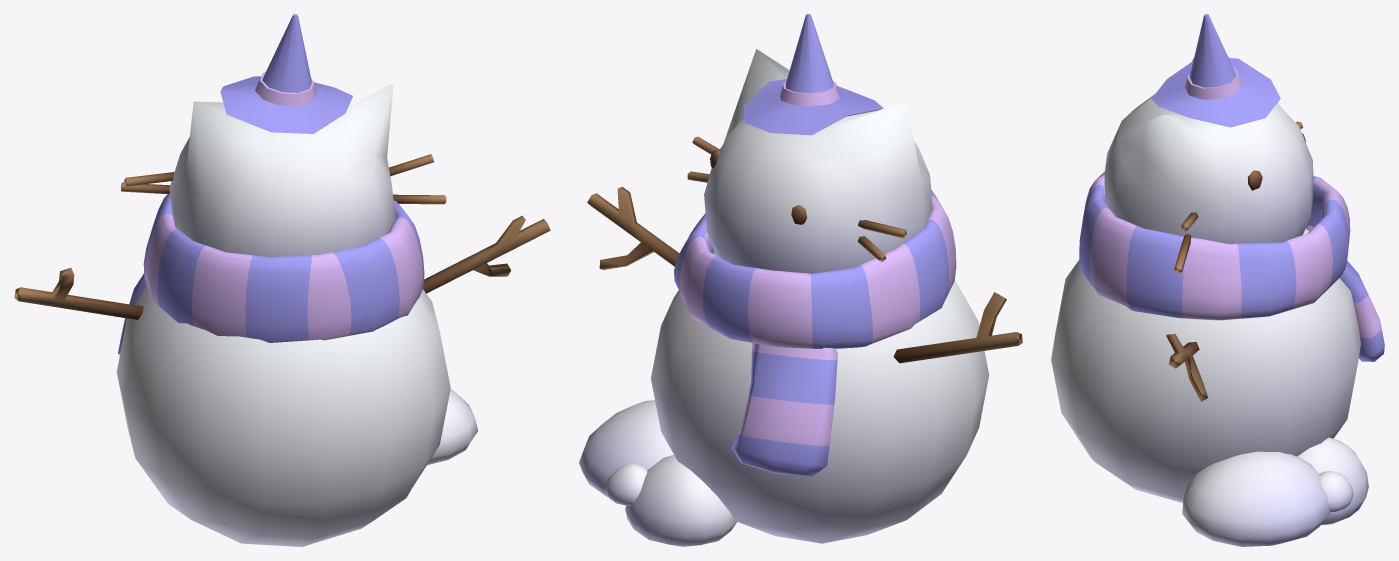
Rendered from muñecodeNieveGato_V2.fbx.
3 renders of one model, left to right at view 1: azimuth 30°, elevation 25°; view 2: azimuth 150°, elevation 25°; view 3: azimuth 270°, elevation 25°, orthographic. The views are drawn at different scales.
Parts seen in each view (by area): view 1: Cuerpo, Cabeza, Bufanda, Sombrero, Brazo, Brazo1, Bola_de_nieve; view 2: Cuerpo, Cabeza, Bufanda, Bufanda1, Sombrero, Bola_de_nieve1, Bola_de_nieve, Brazo1, Brazo, Bola_de_nieve2; view 3: Cuerpo, Cabeza, Bufanda, Bola_de_nieve, Sombrero, Bola_de_nieve1, Bufanda1, Brazo, Bola_de_nieve2.
Boxes of the visible parts, x1,y1,x2,y2 form: Cuerpo: [116, 285, 450, 546]; Cabeza: [169, 83, 395, 257]; Bufanda: [143, 194, 424, 342]; Sombrero: [220, 14, 352, 133]; Brazo: [423, 215, 550, 293]; Brazo1: [14, 267, 143, 319]; Bola_de_nieve: [427, 389, 477, 465]; Cuerpo: [651, 251, 989, 543]; Cabeza: [704, 49, 932, 273]; Bufanda: [674, 190, 956, 348]; Bufanda1: [731, 343, 837, 476]; Sombrero: [744, 14, 883, 135]; Bola_de_nieve1: [625, 455, 736, 546]; Bola_de_nieve: [579, 400, 673, 496]; Brazo1: [893, 292, 1022, 363]; Brazo: [587, 187, 679, 269]; Bola_de_nieve2: [605, 463, 647, 505]; Cuerpo: [1051, 228, 1360, 502]; Cabeza: [1104, 55, 1313, 244]; Bufanda: [1079, 171, 1350, 320]; Bola_de_nieve: [1182, 451, 1330, 546]; Sombrero: [1151, 14, 1280, 127]; Bola_de_nieve1: [1297, 437, 1368, 524]; Bufanda1: [1305, 225, 1384, 361]; Brazo: [1166, 334, 1208, 401]; Bola_de_nieve2: [1319, 471, 1353, 512].
Bounding box in the file's own units: 419 × 425 × 267.
